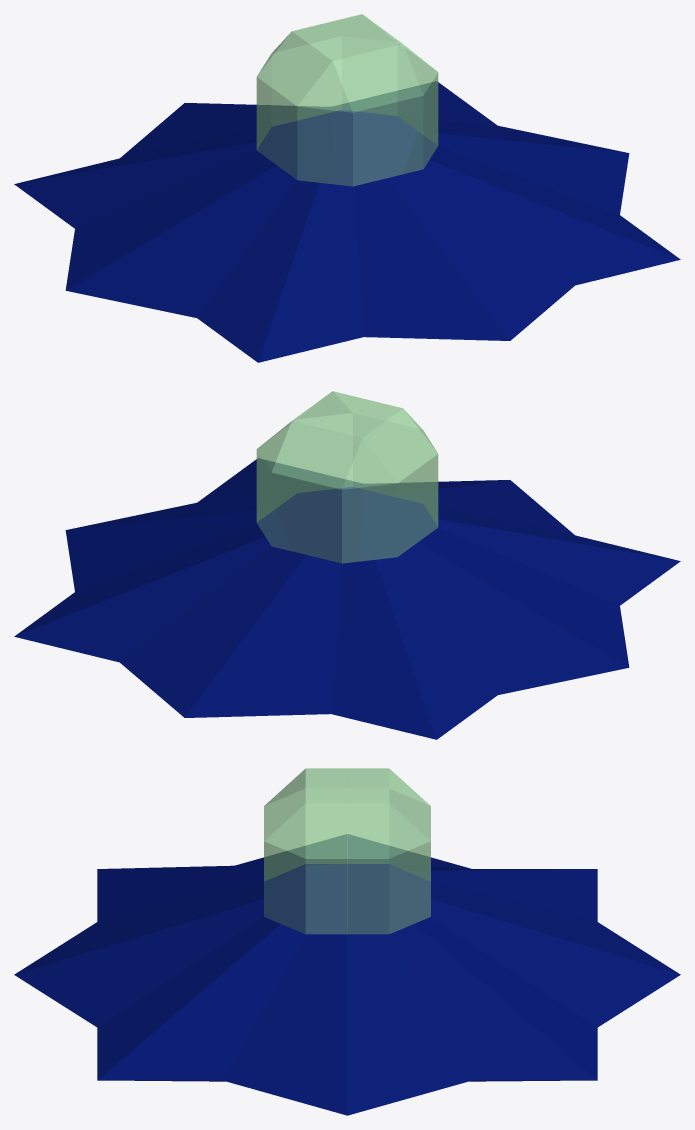
File: disc.glb
3 renders of one model, top to bottom at view 1: azimuth 30°, elevation 25°; view 2: azimuth 150°, elevation 25°; view 3: azimuth 270°, elevation 25°, orthographic. The views are drawn at different scales.
Visible parts, largest first — view 1: Cube; view 2: Cube; view 3: Cube.
Boxes of the visible parts, x1,y1,x2,y2 form: Cube: (14,14,680,362); Cube: (14,391,680,739); Cube: (14,768,680,1115).
Bounding box in the file's own units: 8 × 3.5 × 8.
